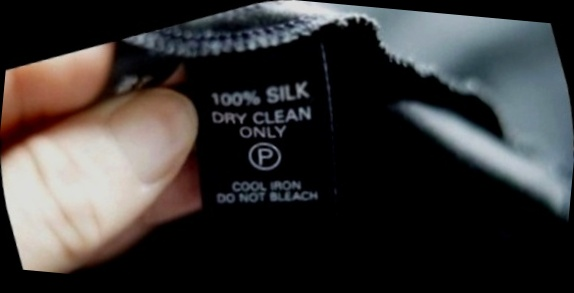dry_clean_any_solvent_except_trichloroethylene: (238, 128, 294, 182)
